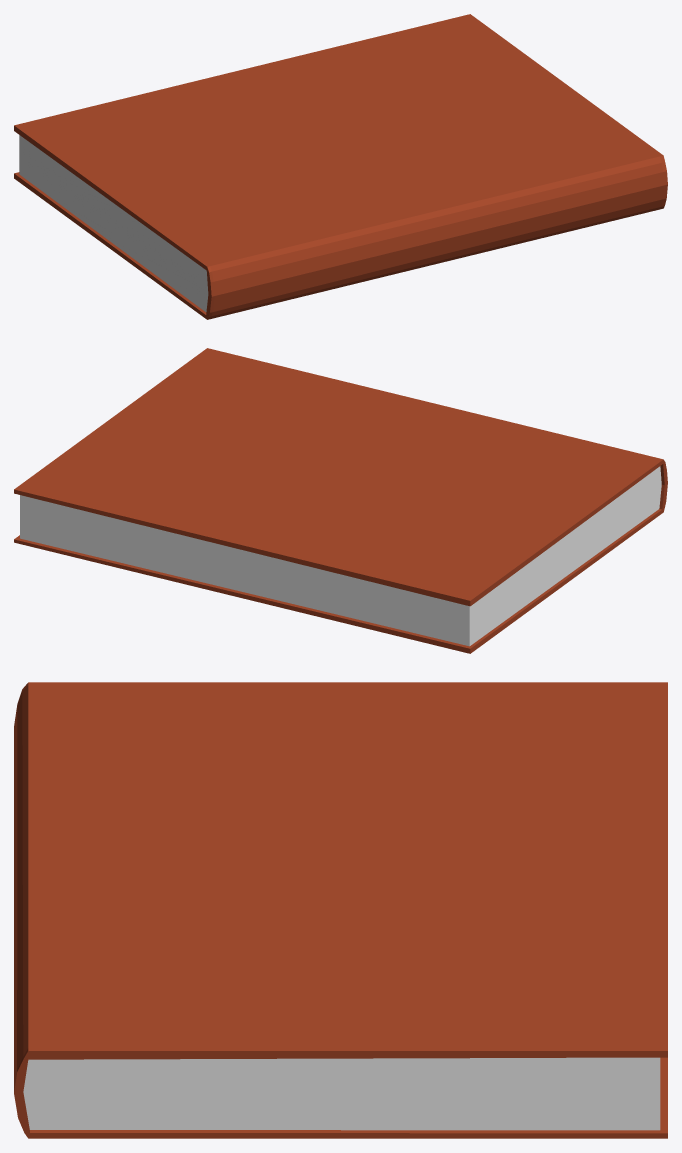
File: SM_Book_001.fbx
3 views of the same model, one above another, from view 1: azimuth 30°, elevation 25°; view 2: azimuth 150°, elevation 25°; view 3: azimuth 270°, elevation 25° (orthographic). The views are drawn at different scales.
Visible parts, largest first — view 1: Book_01; view 2: Book_01; view 3: Book_01.
Boxes of the visible parts, x1,y1,x2,y2 form: Book_01: (14,14,667,319); Book_01: (14,348,667,653); Book_01: (14,682,667,1138).
Size of the model in its own units: 36 by 4 by 27.
